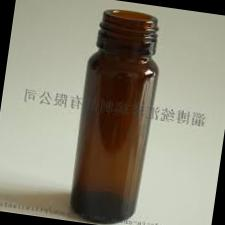glass: (40, 0, 191, 224)
